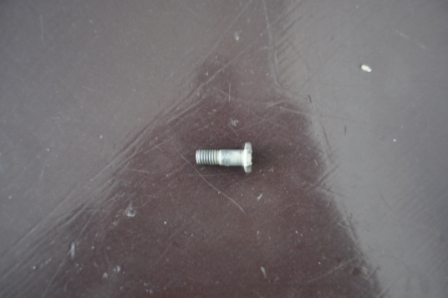NUT (MT): (192, 142, 255, 173)
